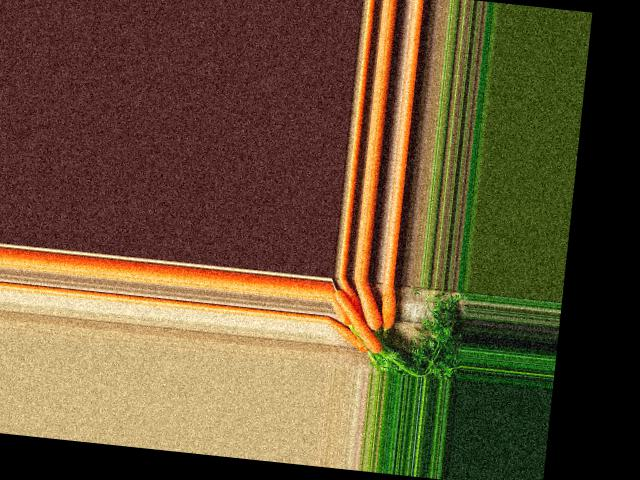carrot: (351, 292, 356, 327)
